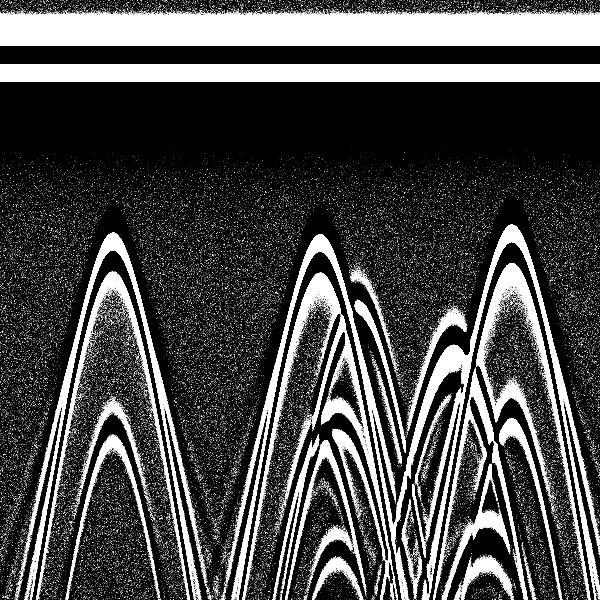pipe: (410, 6, 497, 403), (273, 7, 363, 333), (318, 4, 400, 361), (464, 5, 557, 319), (65, 7, 154, 320)
